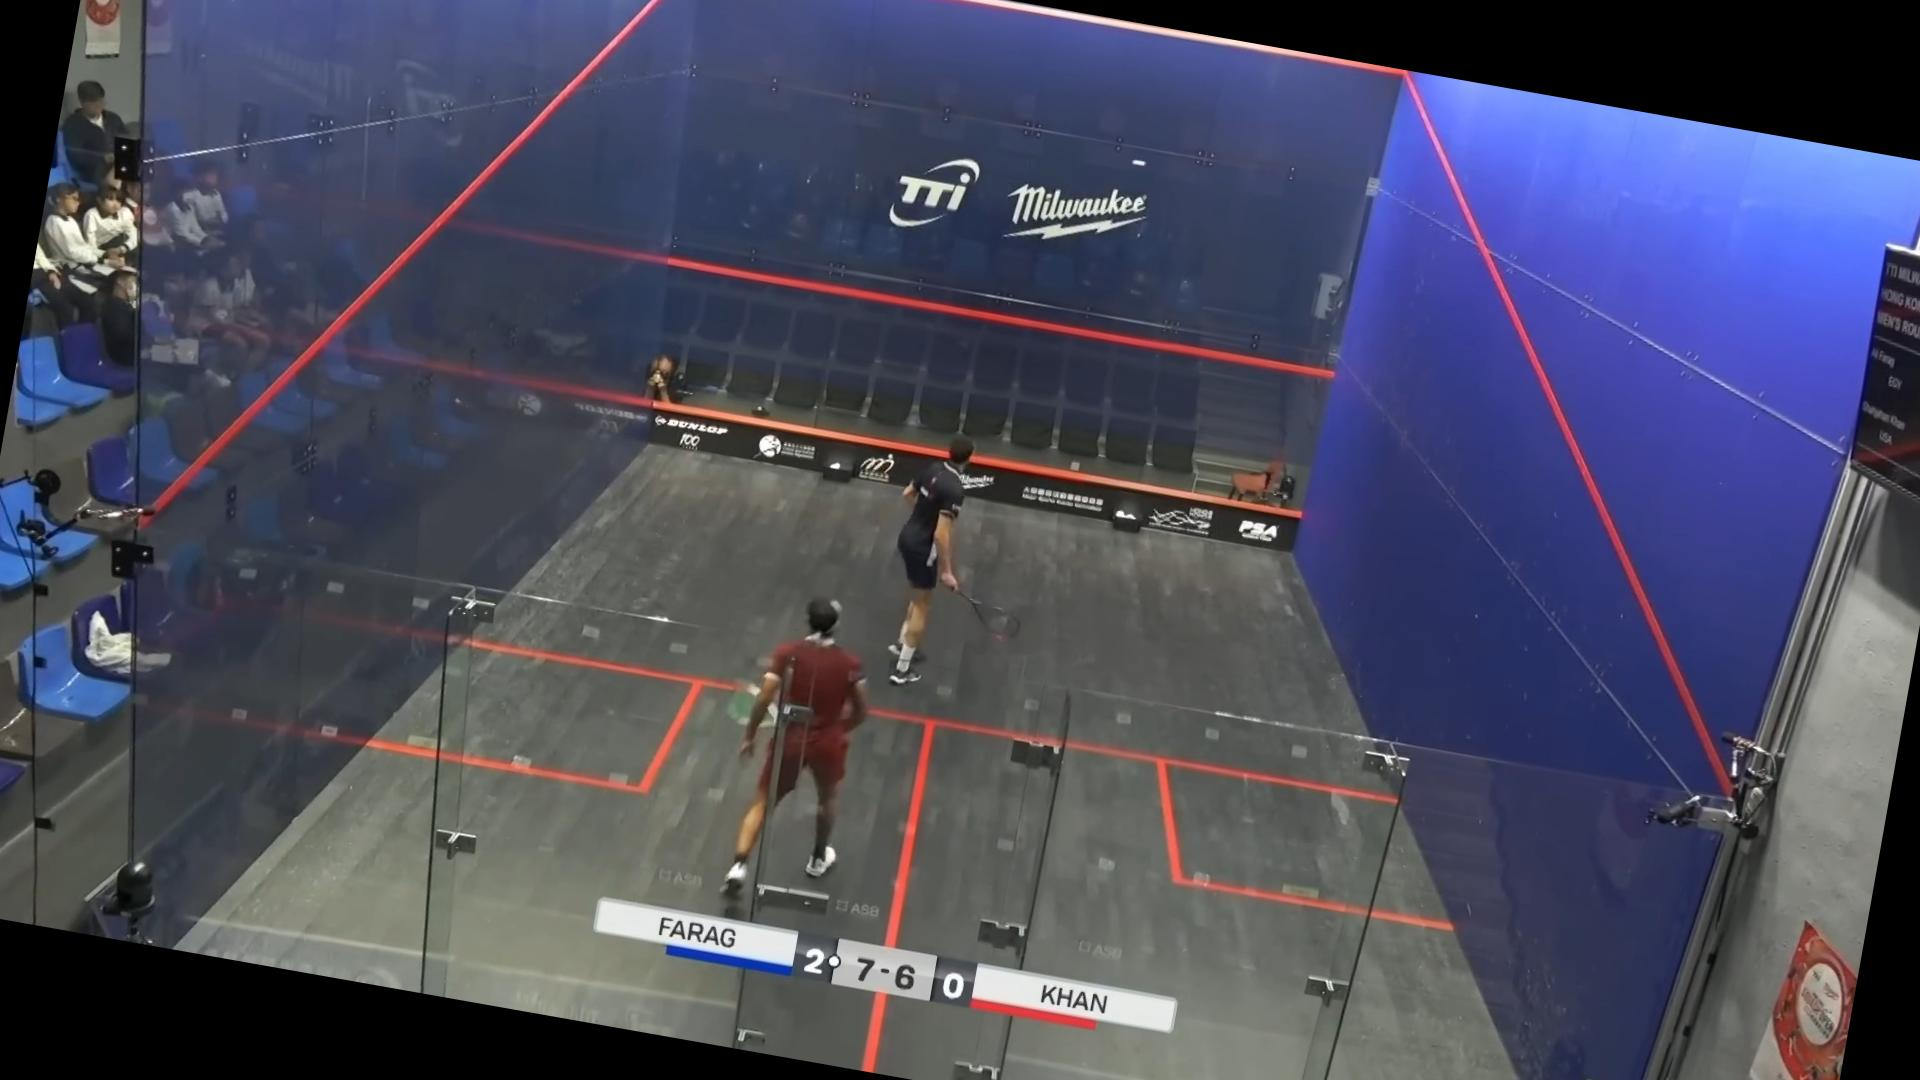Racket: (939, 587, 1026, 646)
